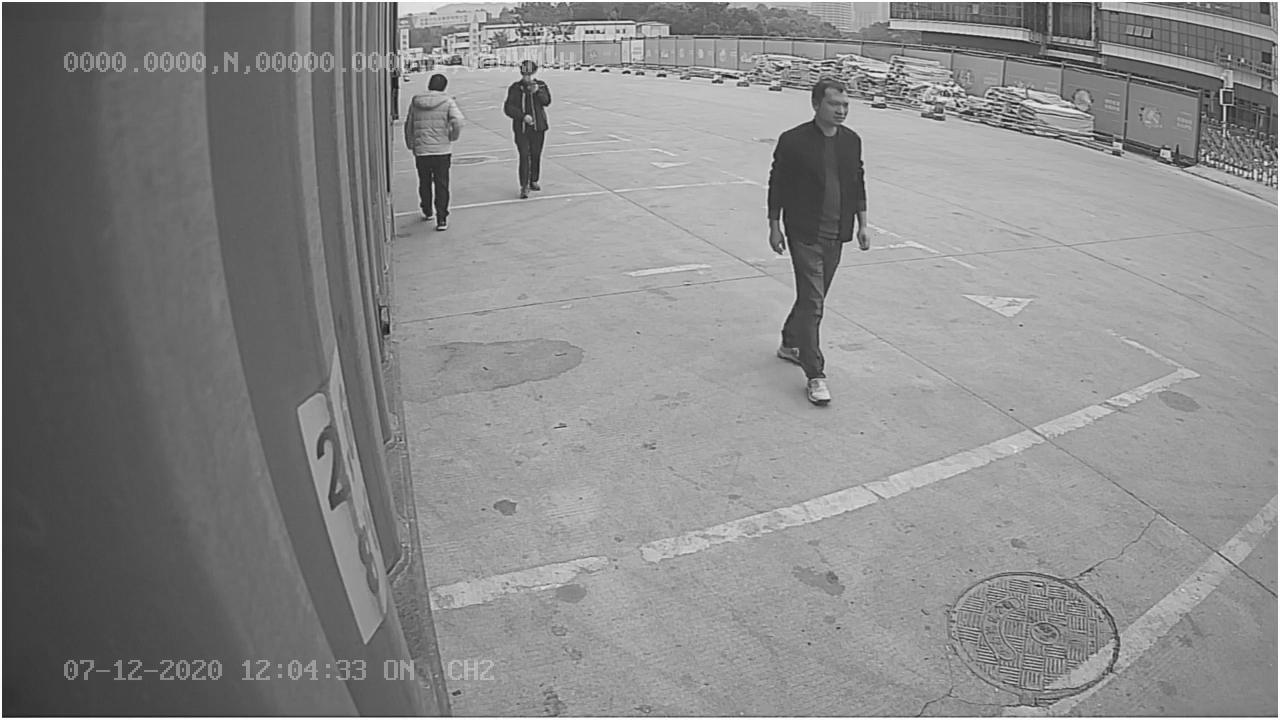person: (762, 78, 878, 403)
